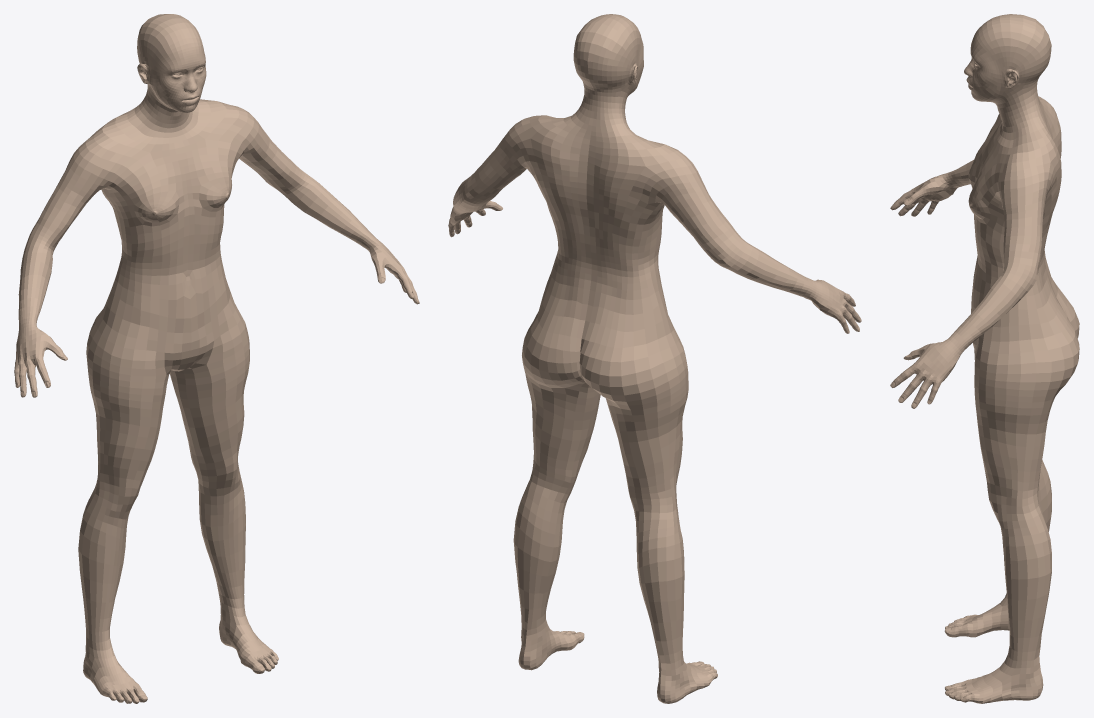
File: avatar_shapekey.glb
3 renders of one model, left to right at view 1: azimuth 30°, elevation 25°; view 2: azimuth 150°, elevation 25°; view 3: azimuth 270°, elevation 25°, orthographic.
Parts seen in each view (by area): view 1: baseline; view 2: baseline; view 3: baseline.
Part boxes in pixels (<box>): baseline: <box>14,14,419,703</box>; baseline: <box>448,14,861,703</box>; baseline: <box>890,14,1079,703</box>.
Size of the model in its own units: 10.88 by 16.98 by 4.49.
